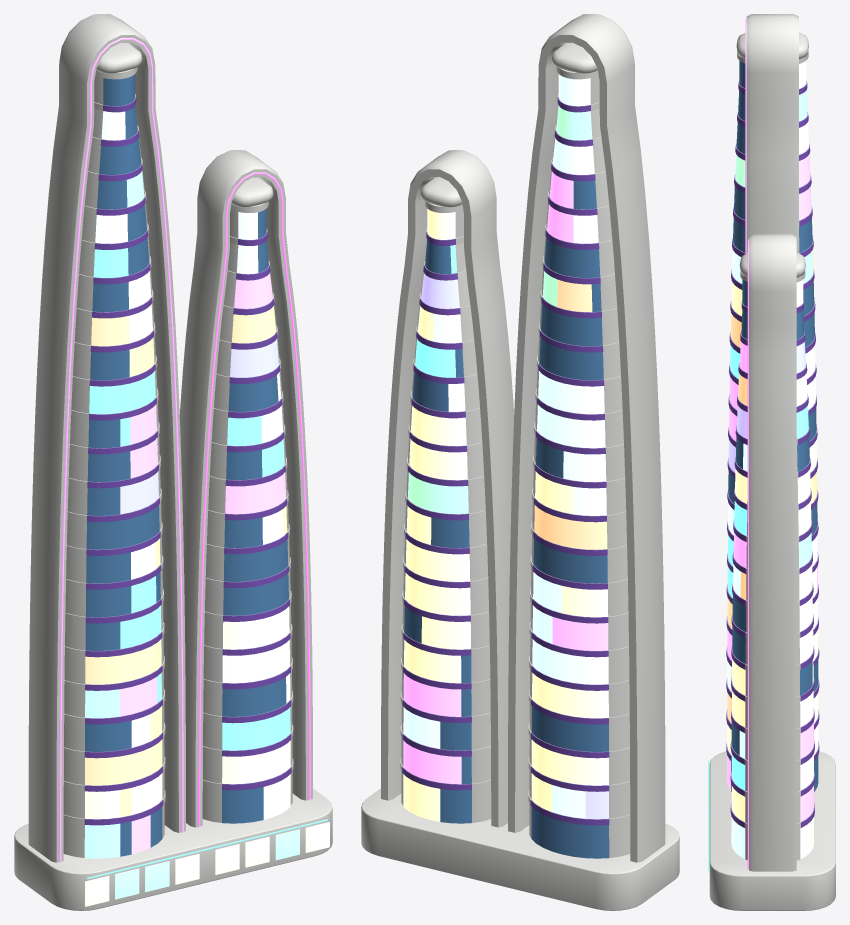
File: arranha_ceu_arcos_brancos.glb
The picture shows the model from 3 angles, left to right: view 1: azimuth 30°, elevation 25°; view 2: azimuth 150°, elevation 25°; view 3: azimuth 270°, elevation 25°; orthographic projection. The views are drawn at different scales.
Parts seen in each view (by area): view 1: arranha_ceu_arcos_brancos; view 2: arranha_ceu_arcos_brancos; view 3: arranha_ceu_arcos_brancos.
Boxes of the visible parts, x1,y1,x2,y2 form: arranha_ceu_arcos_brancos: (14,14,332,910); arranha_ceu_arcos_brancos: (361,14,679,910); arranha_ceu_arcos_brancos: (708,14,835,910).
Size of the model in its own units: 27.6 by 81.2 by 11.75.
Materials: 12 (1 with a texture image).
